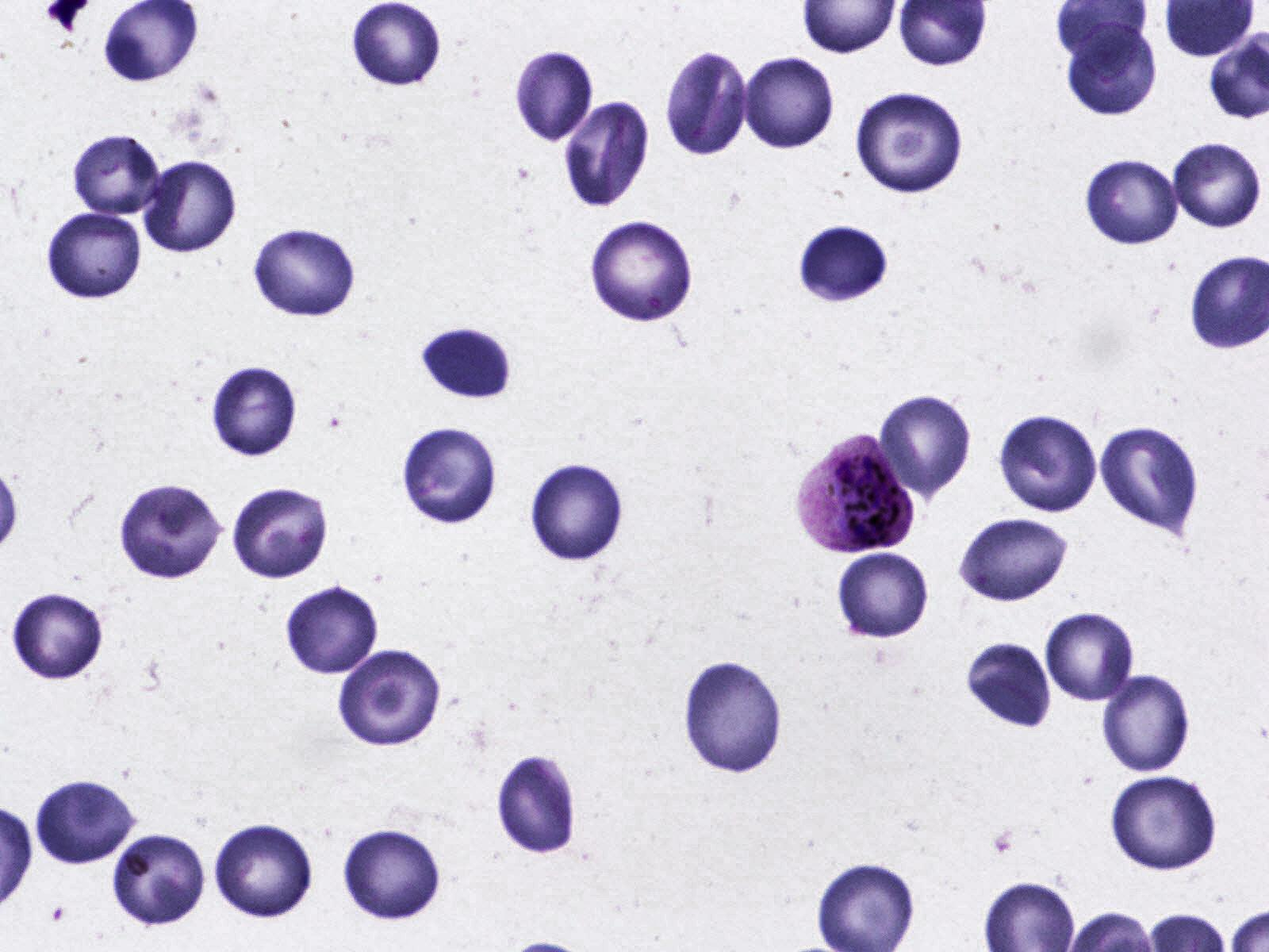Infected: (792, 436, 914, 555)
Uninfected: (586, 214, 698, 324), (857, 91, 966, 198), (684, 656, 781, 776), (1110, 774, 1222, 873), (118, 479, 225, 582), (1098, 424, 1199, 529), (875, 394, 974, 501), (249, 224, 359, 320), (995, 413, 1099, 514), (340, 649, 444, 749), (1099, 666, 1191, 777), (212, 823, 314, 923), (528, 461, 628, 563), (228, 484, 332, 581), (563, 96, 653, 207), (343, 824, 442, 922), (955, 516, 1069, 601), (743, 51, 837, 154), (44, 209, 148, 300), (37, 776, 138, 868), (402, 427, 496, 525), (140, 159, 237, 252), (1083, 157, 1183, 247), (111, 835, 209, 926), (10, 590, 107, 681), (209, 362, 298, 461), (286, 584, 380, 677), (961, 639, 1056, 731), (838, 550, 932, 639), (1071, 21, 1155, 120), (500, 750, 576, 859), (68, 133, 162, 220), (668, 52, 748, 154), (1046, 612, 1136, 702), (348, 5, 446, 86), (1172, 139, 1259, 228), (801, 225, 888, 305), (420, 324, 510, 399), (516, 52, 590, 142)
